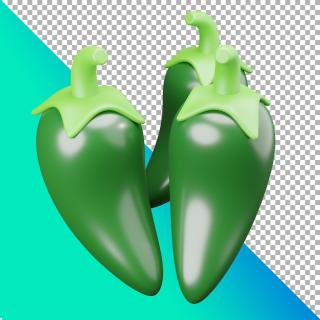Cabai Hijau: (32, 45, 165, 297), (167, 44, 277, 305)
